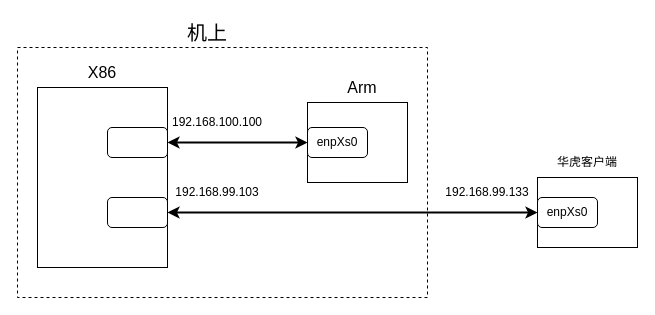
This 655x315 diagram has some shape labels left out. Here are the shapes that lost their labels. From the top down, the centre of each, then its label:
At point 137,142: "enp5s0".
At point 137,212: "enp7 s0".
